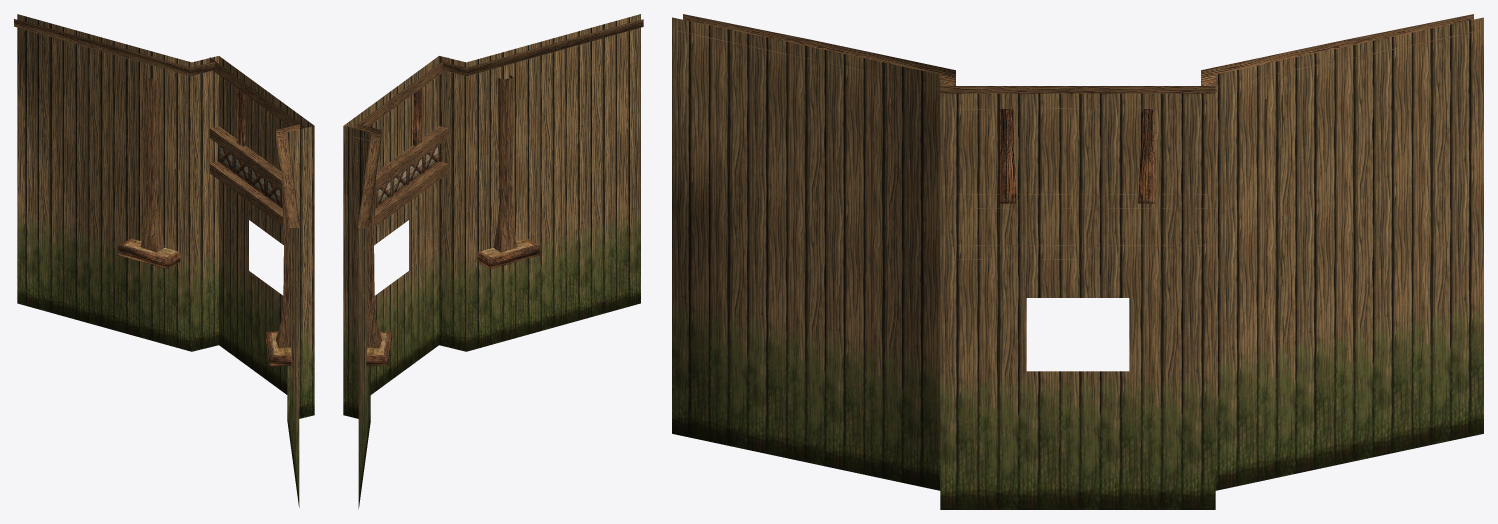
Rendered from LAKETOWN_WAREHOUSE2_PS_WH2_FRONTWALL9494__GX.fbx.
The picture shows the model from 3 angles, left to right: view 1: azimuth 30°, elevation 25°; view 2: azimuth 150°, elevation 25°; view 3: azimuth 270°, elevation 25°; orthographic projection. The views are drawn at different scales.
Visible parts, largest first — view 1: LAKETOWN_WAREHOUSE2_PS_WH2_FRONTWALL9494__GX; view 2: LAKETOWN_WAREHOUSE2_PS_WH2_FRONTWALL9494__GX; view 3: LAKETOWN_WAREHOUSE2_PS_WH2_FRONTWALL9494__GX.
Boxes of the visible parts, x1=… form: LAKETOWN_WAREHOUSE2_PS_WH2_FRONTWALL9494__GX: x1=14, y1=14, x2=314, y2=507; LAKETOWN_WAREHOUSE2_PS_WH2_FRONTWALL9494__GX: x1=343, y1=14, x2=643, y2=508; LAKETOWN_WAREHOUSE2_PS_WH2_FRONTWALL9494__GX: x1=672, y1=14, x2=1483, y2=509.
Size of the model in its own units: 45709 by 107256 by 189000.
8 materials, 8 textured.
